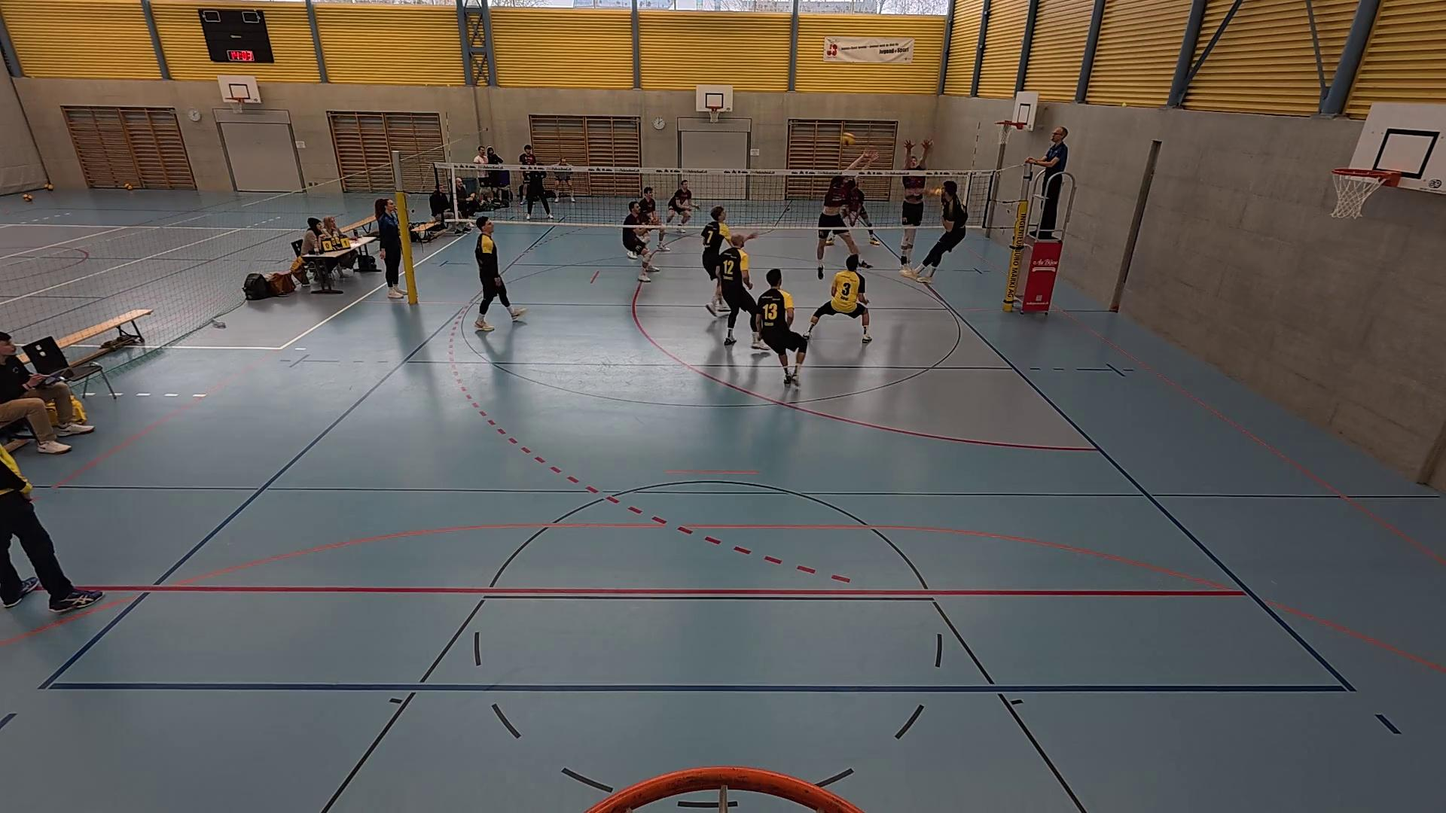attacco: (898, 172, 972, 285)
muro: (813, 146, 875, 277), (895, 137, 935, 276)
